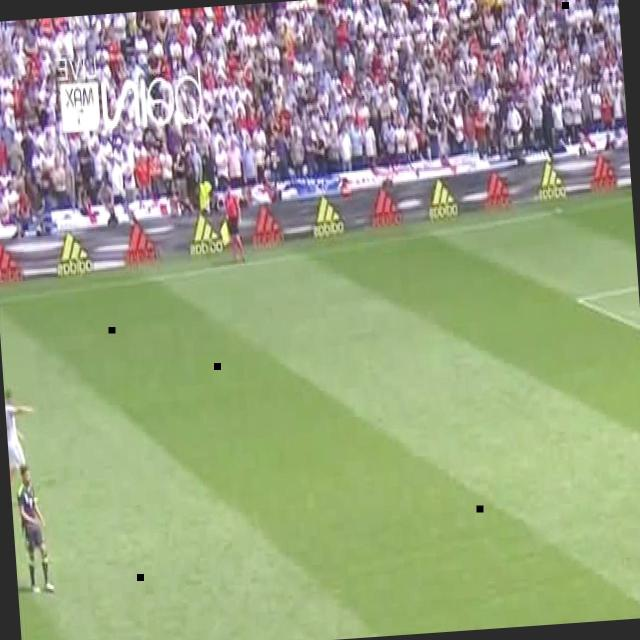player-white: (16, 462, 54, 594), (4, 385, 41, 496), (223, 185, 246, 265)
